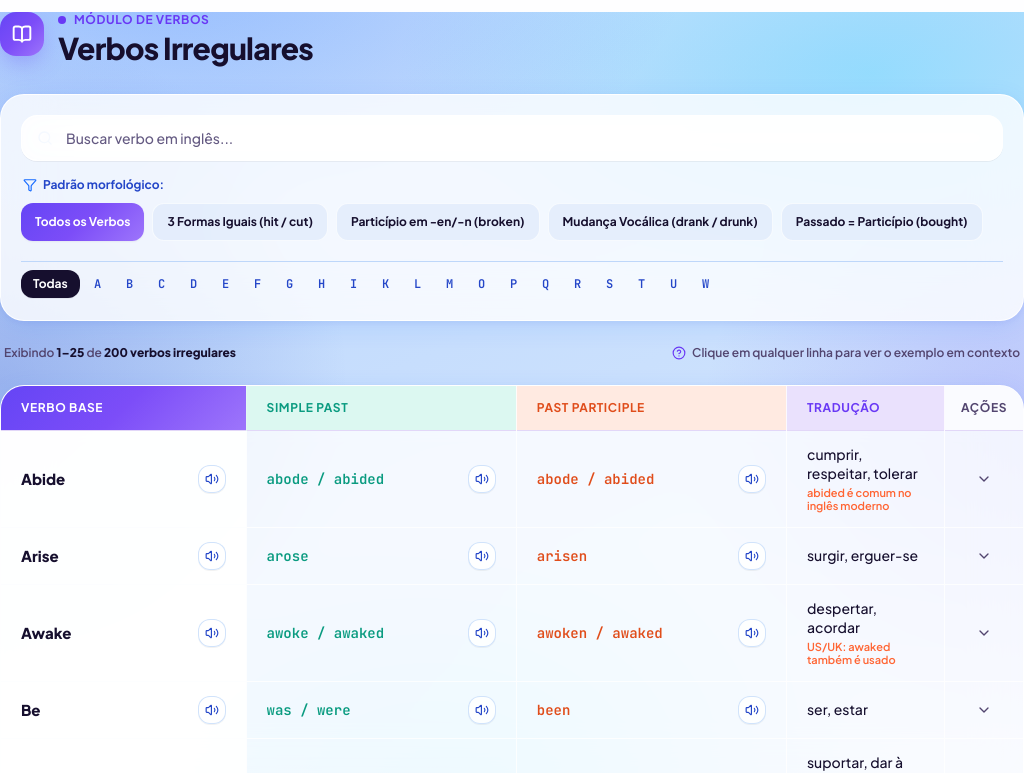
Scenario: Irregular Verbs 200 Database and Pagination Tests › shows empty state when search term has no match
Type "nonexistenttermxyz" into the search field with placeholder "Buscar verbo em inglês..." at (512, 138), box [21,115,1003,161]
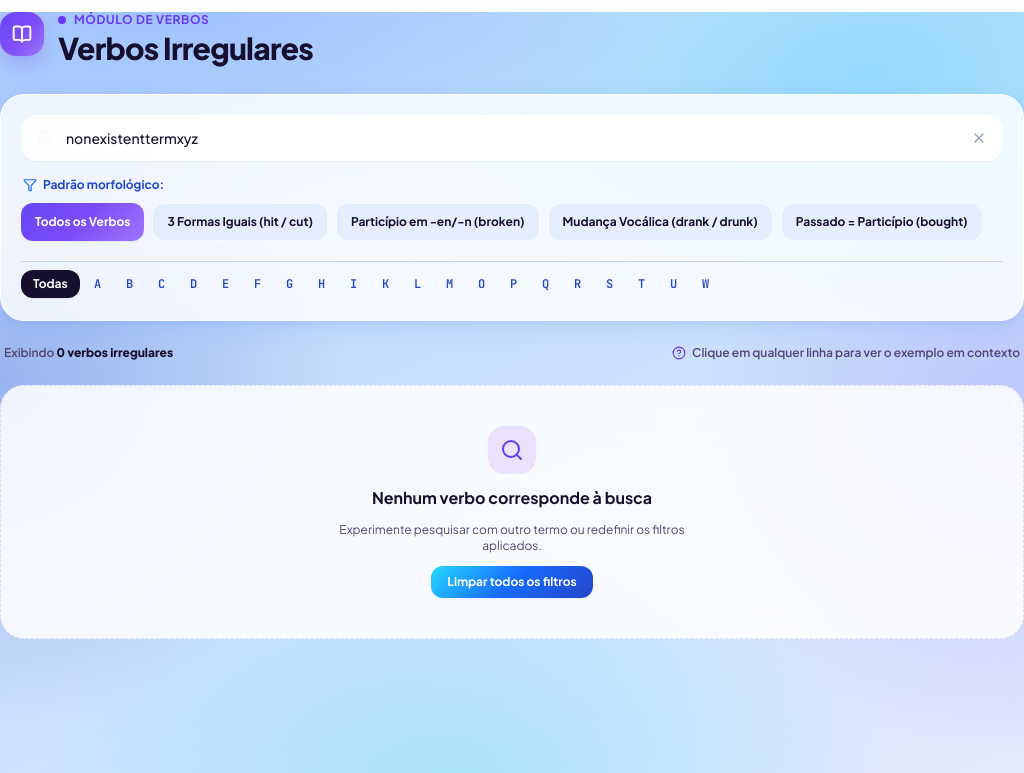
Expected: the text "0 verbos irregulares" is shown, [57,345,173,360]
Now the text "Nenhum verbo corresponde à busca" is shown, box [372,487,652,508]
Note: Clicking clear filters resets search
Click the button "Limpar todos os filtros" at (512, 582), box [431,566,593,598]
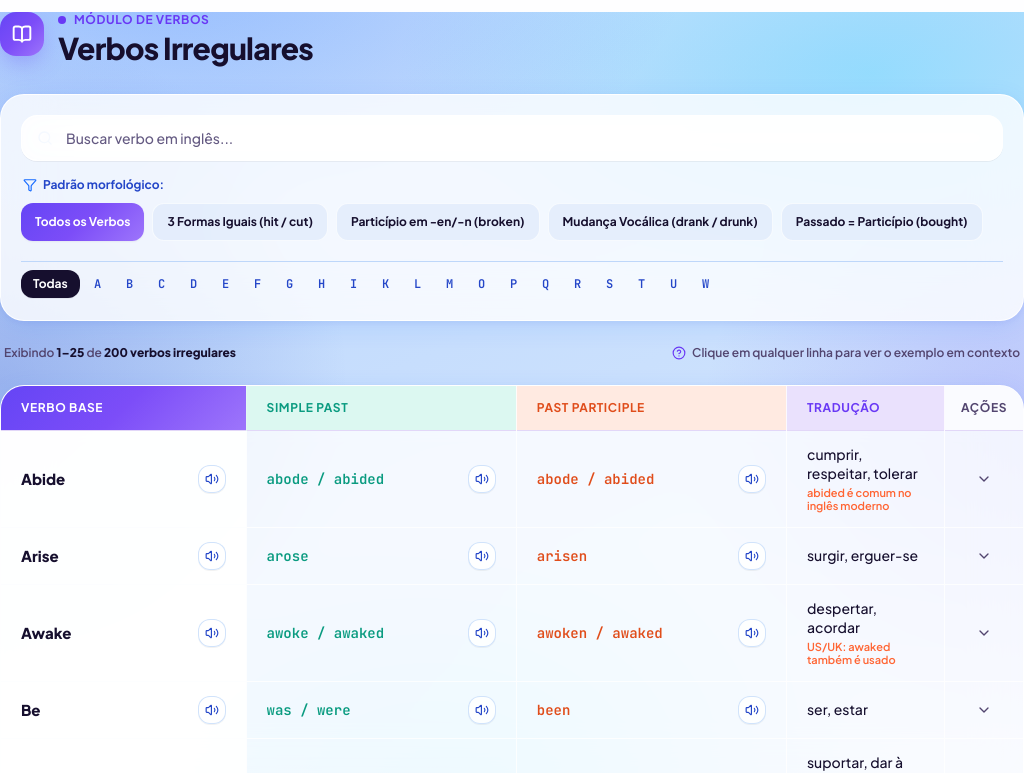
Now the text "1–25" is shown, box [57,345,84,360]
